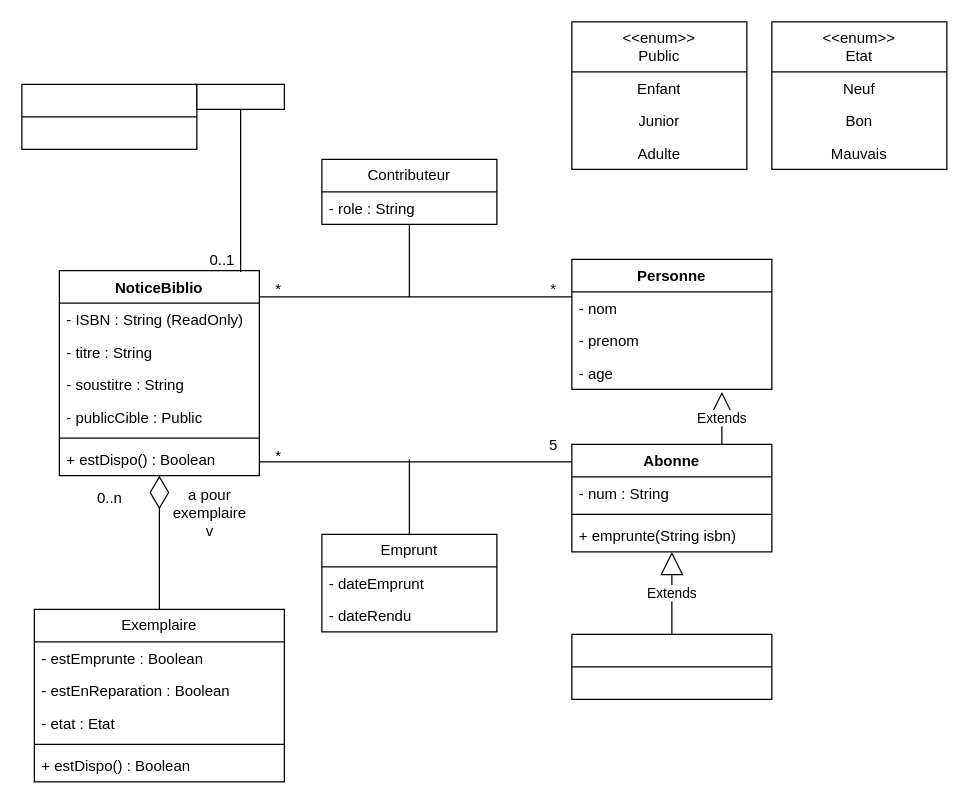
Image size: 969x808. Some labels were removed from this diagram. Here are the shapes that lost their labels. From the top down, the centre of each, then its label:
[109,116]: Bibliothèque
[240,96]: ouvrage
[671,666]: AbonneMineur
